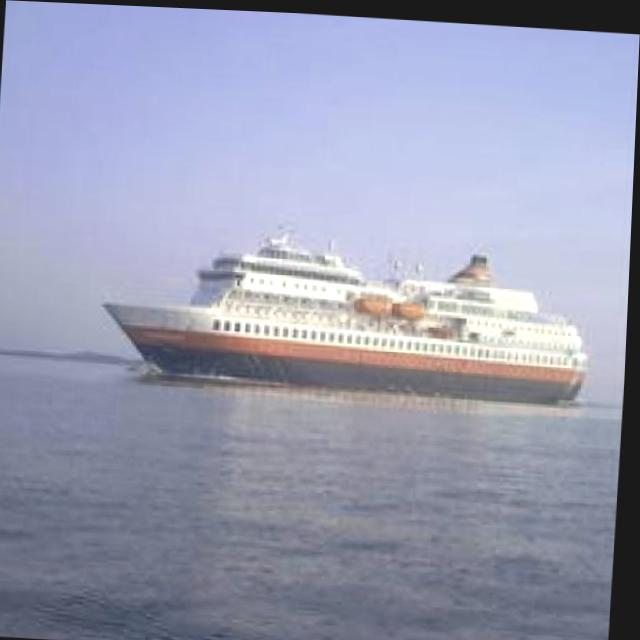ship2: (103, 222, 591, 402)
